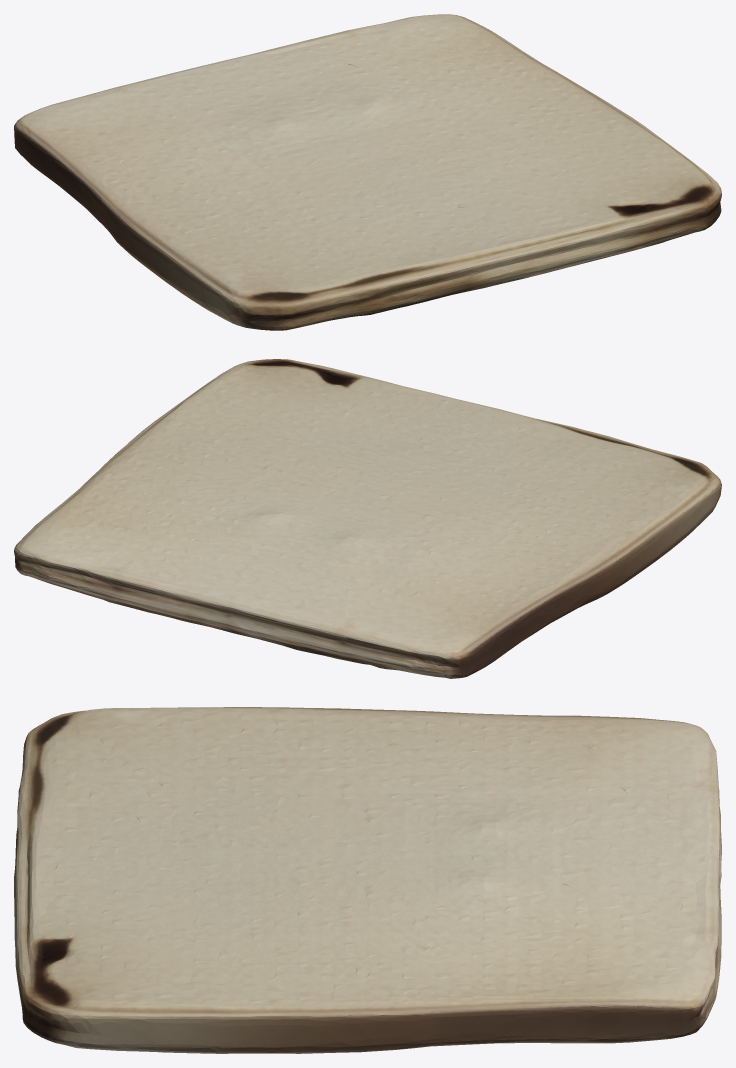
3 renders of one model, top to bottom at view 1: azimuth 30°, elevation 25°; view 2: azimuth 150°, elevation 25°; view 3: azimuth 270°, elevation 25°, orthographic. The views are drawn at different scales.
Parts seen in each view (by area): view 1: world; view 2: world; view 3: world.
Boxes of the visible parts, x1,y1,x2,y2 form: world: (14, 14, 721, 330); world: (14, 359, 721, 678); world: (14, 707, 721, 1053).
Bounding box in the file's own units: 0.9959 × 0.0981 × 0.9569.
1 material, 1 textured.
